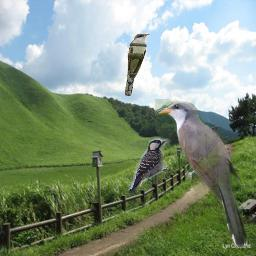Cuckoo: (155, 99, 251, 250), (125, 33, 150, 96)
Woodpecker: (125, 136, 172, 197)
